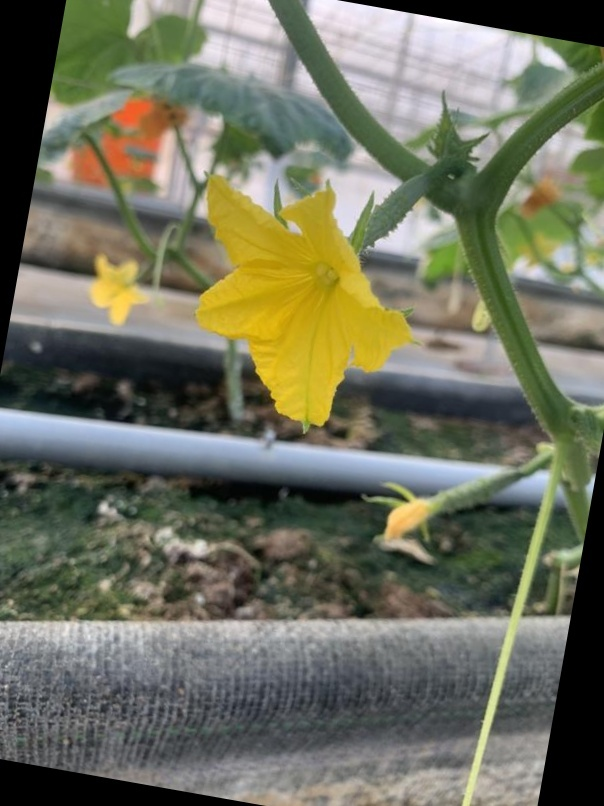flowering: (179, 142, 465, 437)
